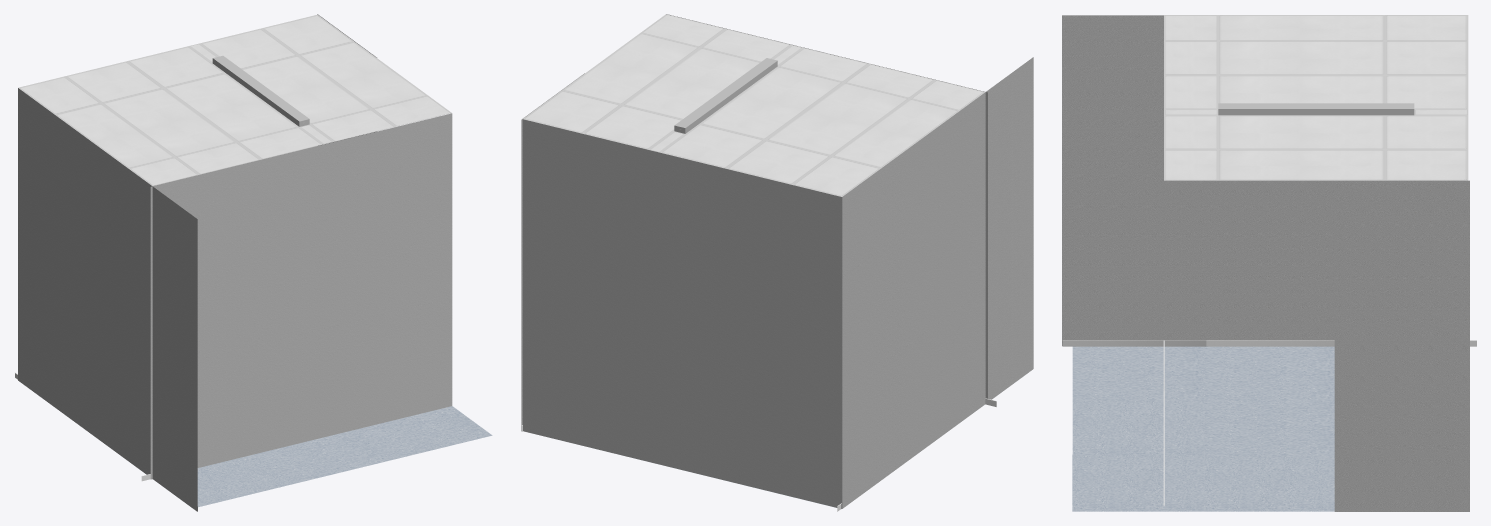
The model's file is realPDHallway.fbx.
3 renders of one model, left to right at view 1: azimuth 30°, elevation 25°; view 2: azimuth 150°, elevation 25°; view 3: azimuth 270°, elevation 25°, orthographic. The views are drawn at different scales.
Parts seen in each view (by area): view 1: polySurface451; view 2: polySurface451; view 3: polySurface451.
Boxes of the visible parts, x1,y1,x2,y2 form: polySurface451: [14, 14, 492, 511]; polySurface451: [521, 14, 1033, 511]; polySurface451: [1062, 15, 1476, 511].
Size of the model in its own units: 4.93 by 4.52 by 5.05.
5 materials, 5 textured.
